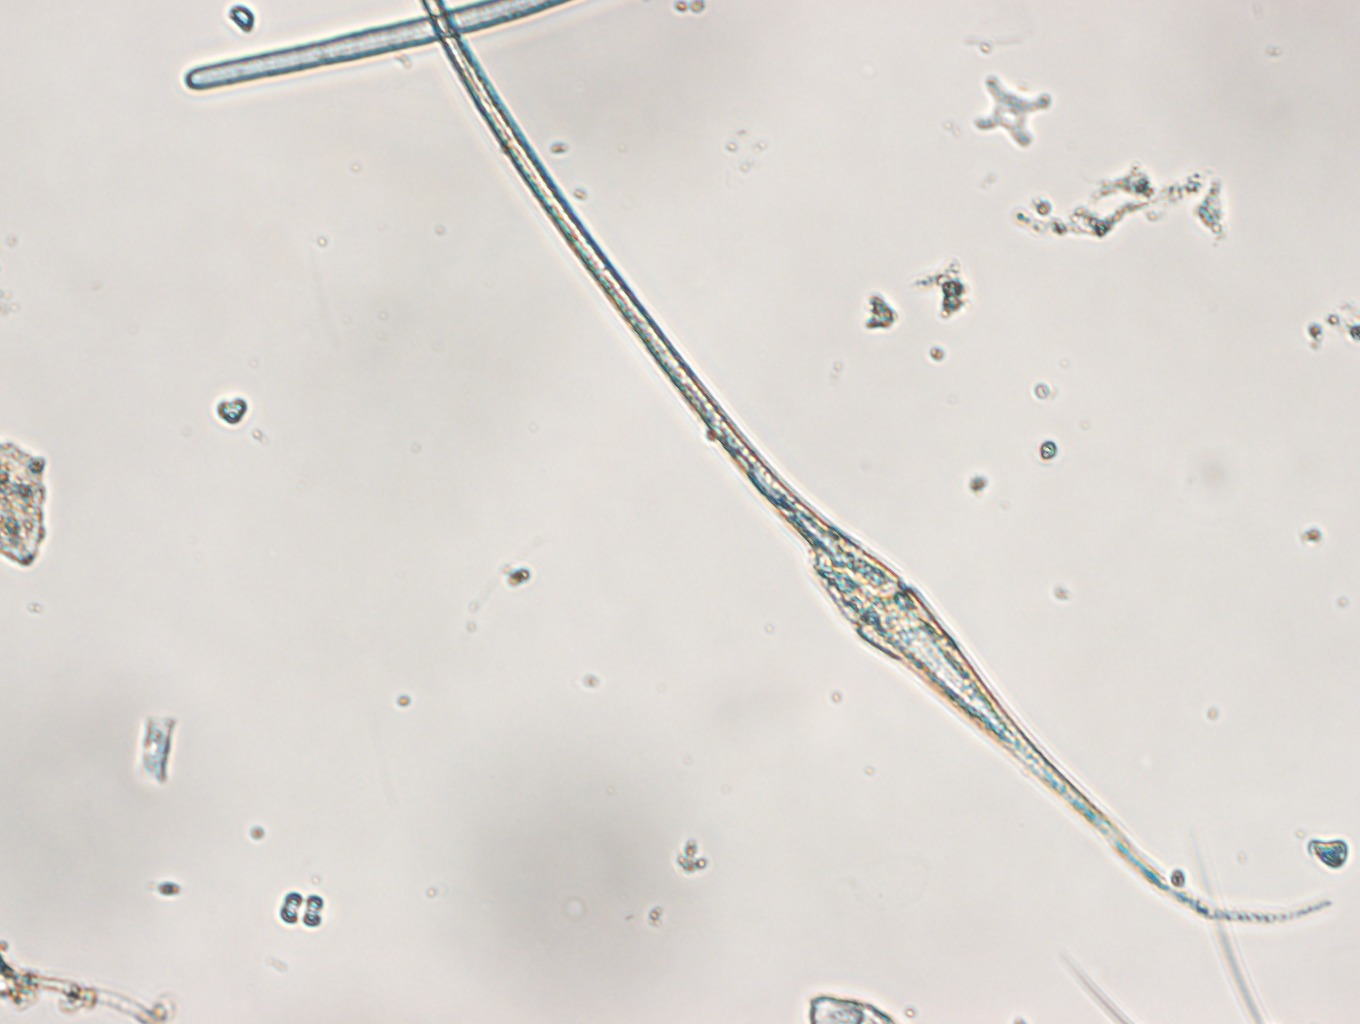ceratium fusus: (421, 1, 1331, 920)
